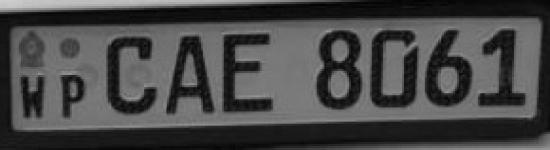0: (365, 23, 422, 114)
1: (476, 21, 530, 113)
6: (422, 23, 476, 112)
8: (314, 23, 364, 113)
A: (163, 29, 218, 119)
C: (102, 28, 160, 120)
E: (216, 25, 278, 116)
P: (57, 70, 91, 123)
W: (18, 72, 51, 122)
